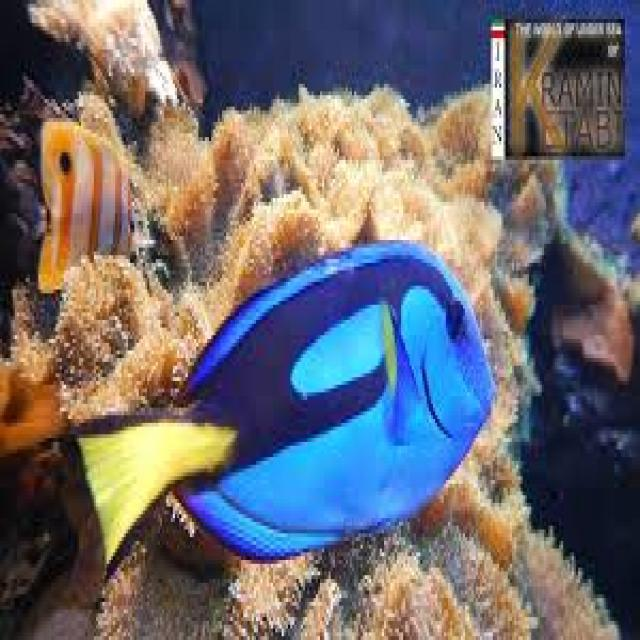BlueTang: (76, 237, 499, 574)
